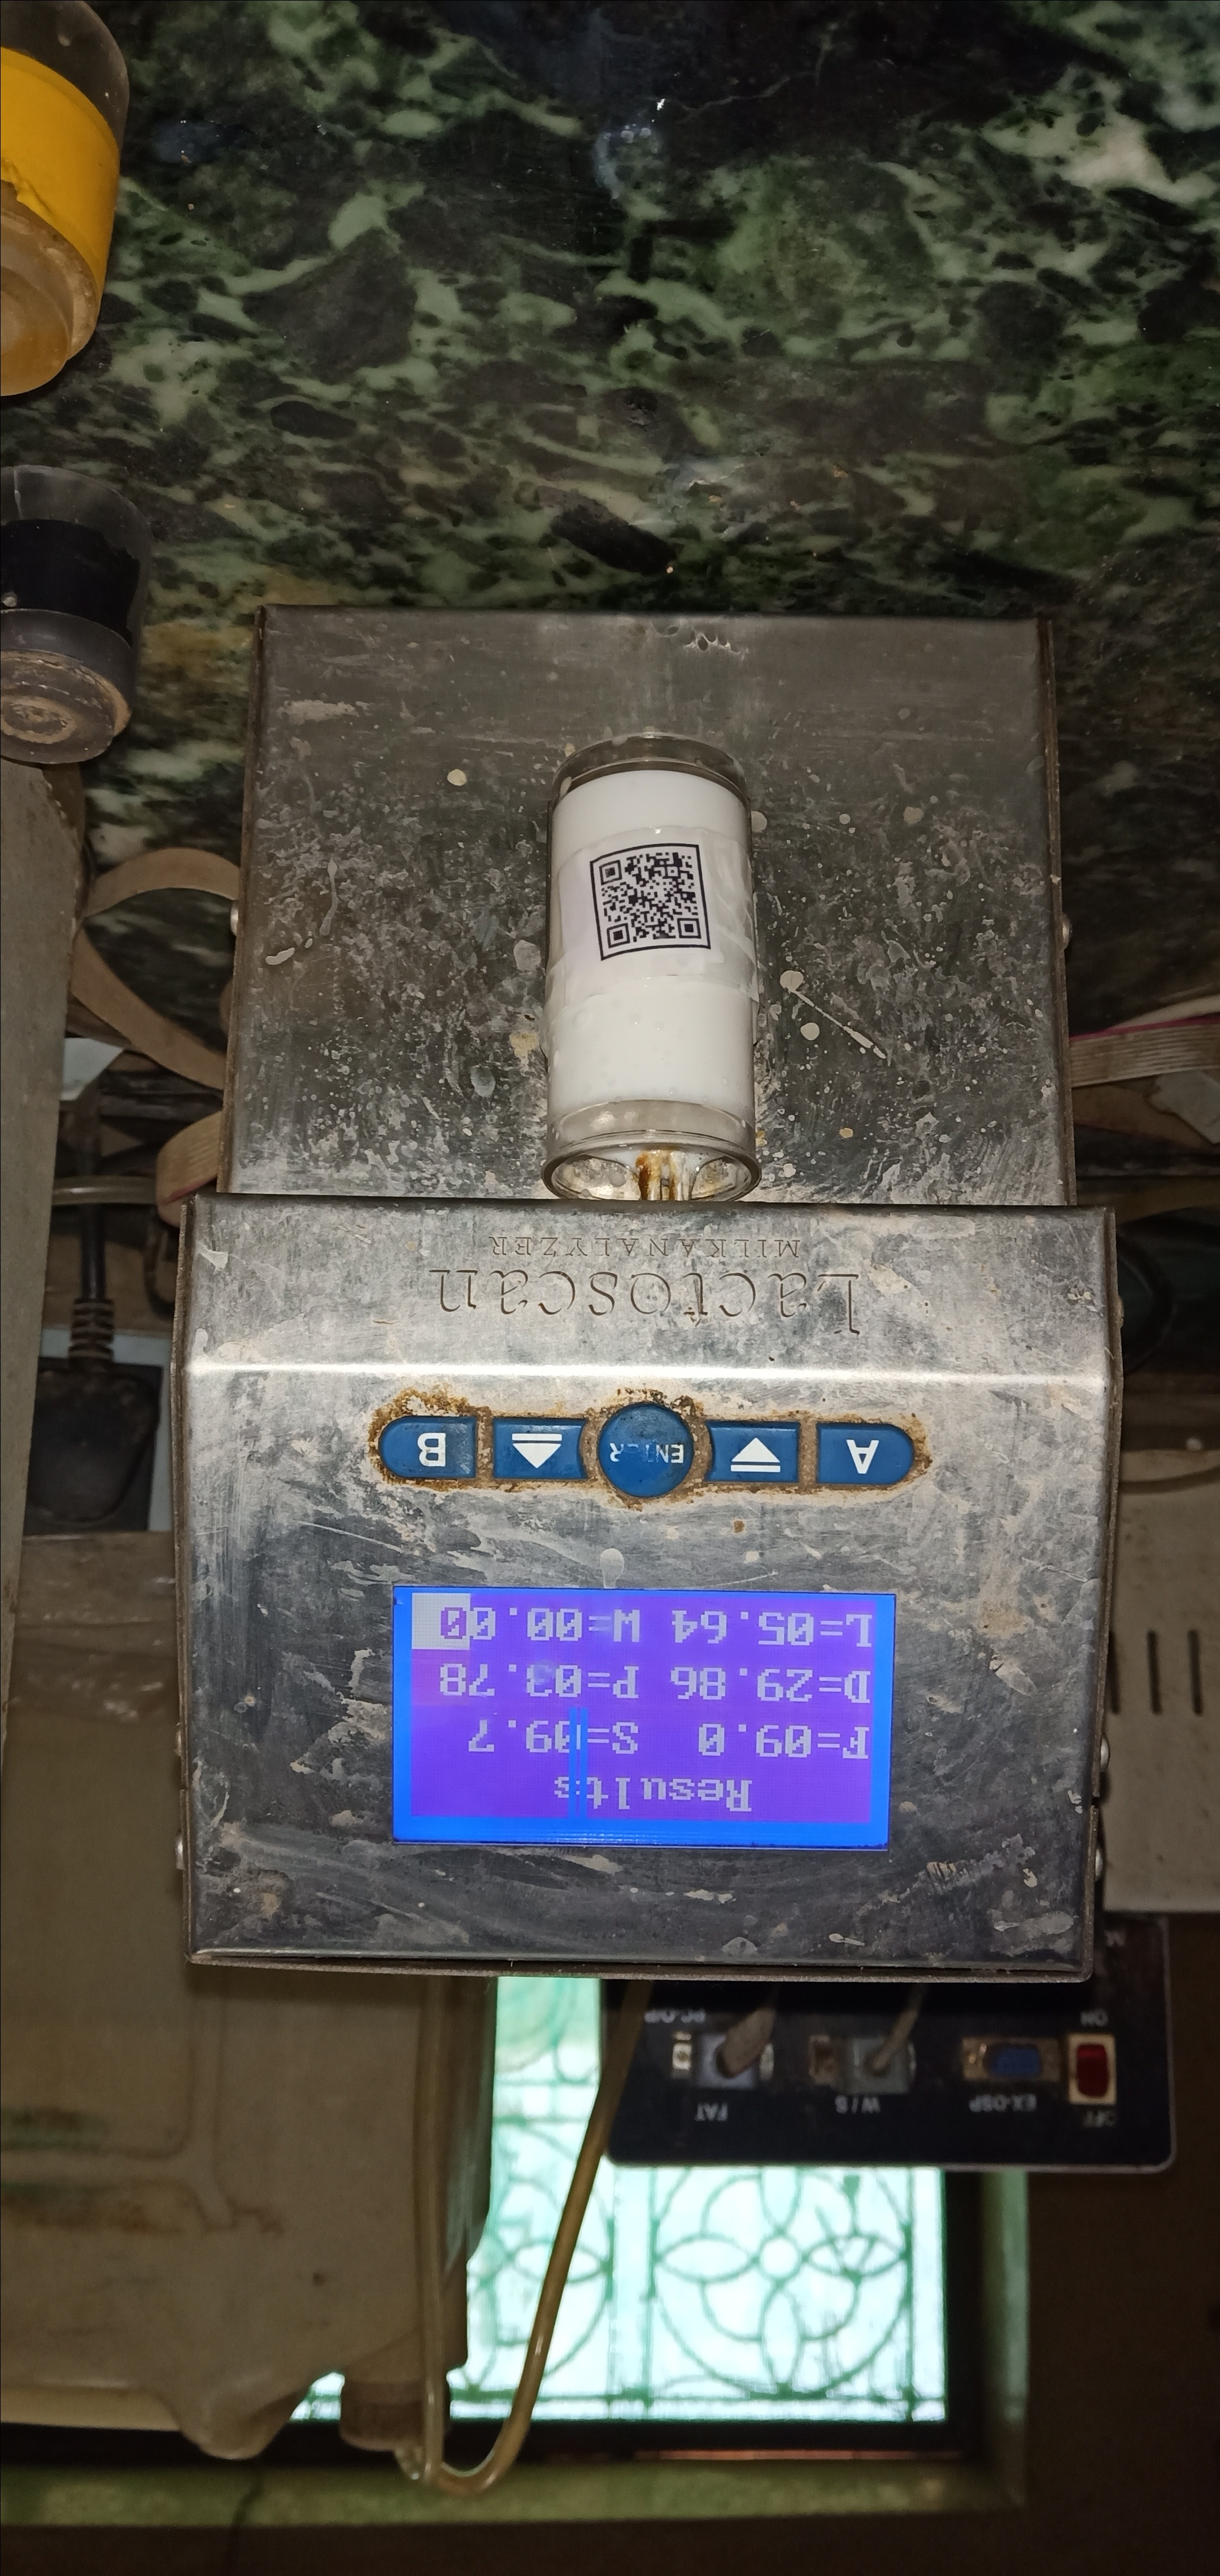lcd: (383, 1582, 901, 1868)
qr: (580, 823, 729, 969)
